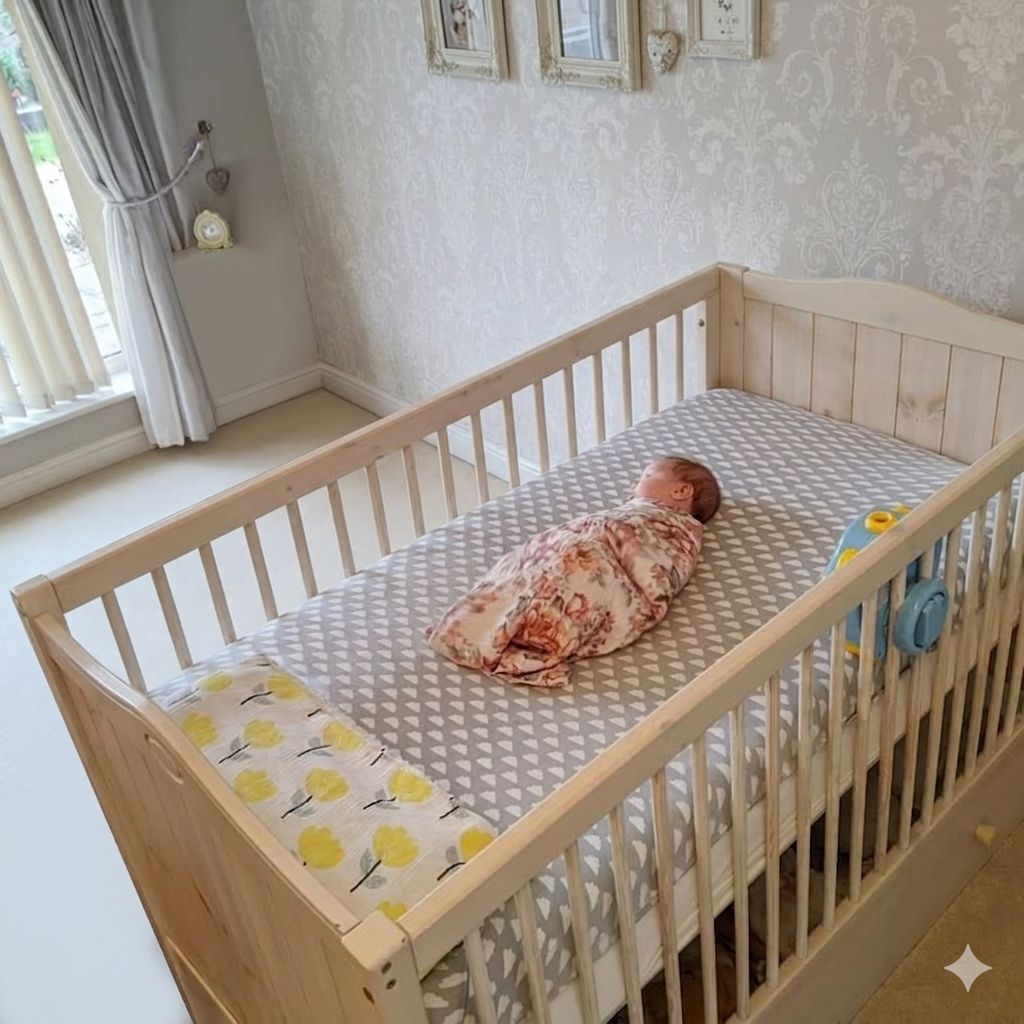baby: (427, 456, 719, 686)
crib: (14, 265, 1023, 1023)
